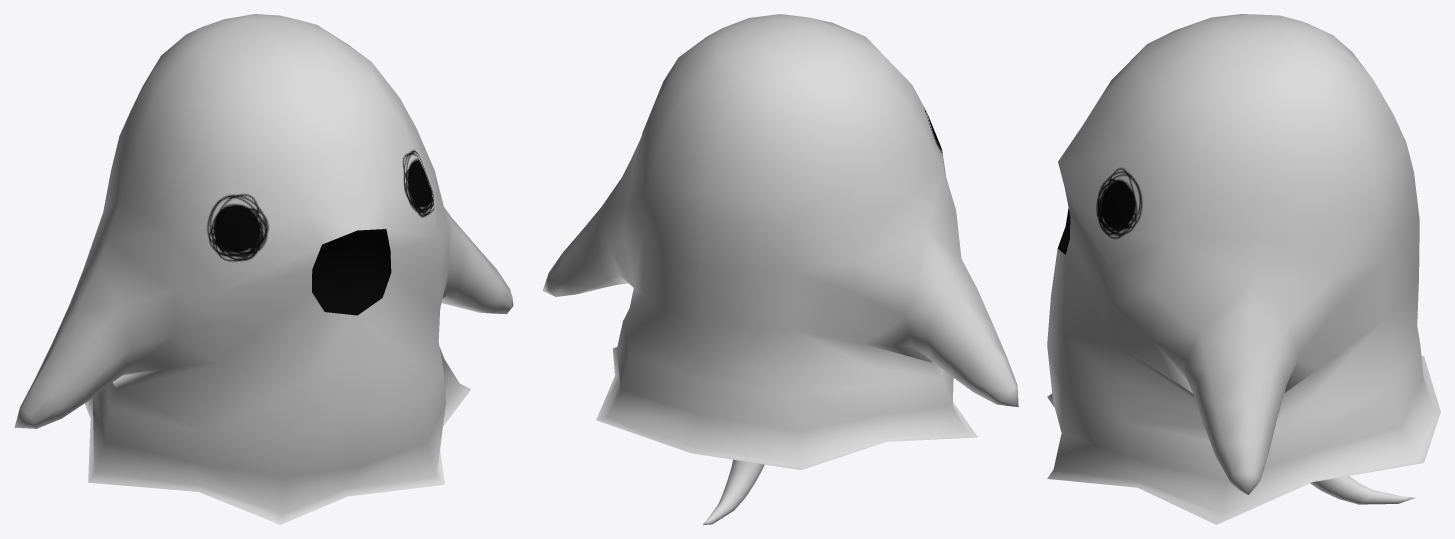
File: Ghost.fbx
3 views of the same model, side by side, from view 1: azimuth 30°, elevation 25°; view 2: azimuth 150°, elevation 25°; view 3: azimuth 270°, elevation 25° (orthographic). The views are drawn at different scales.
Parts seen in each view (by area): view 1: body; view 2: body; view 3: body.
Part boxes in pixels (x1,y1,x2,y2): body: (14, 14, 513, 524); body: (542, 14, 1018, 524); body: (1047, 14, 1440, 524).
Size of the model in its own units: 11.63 by 10.36 by 7.79.
1 material, 1 textured.
